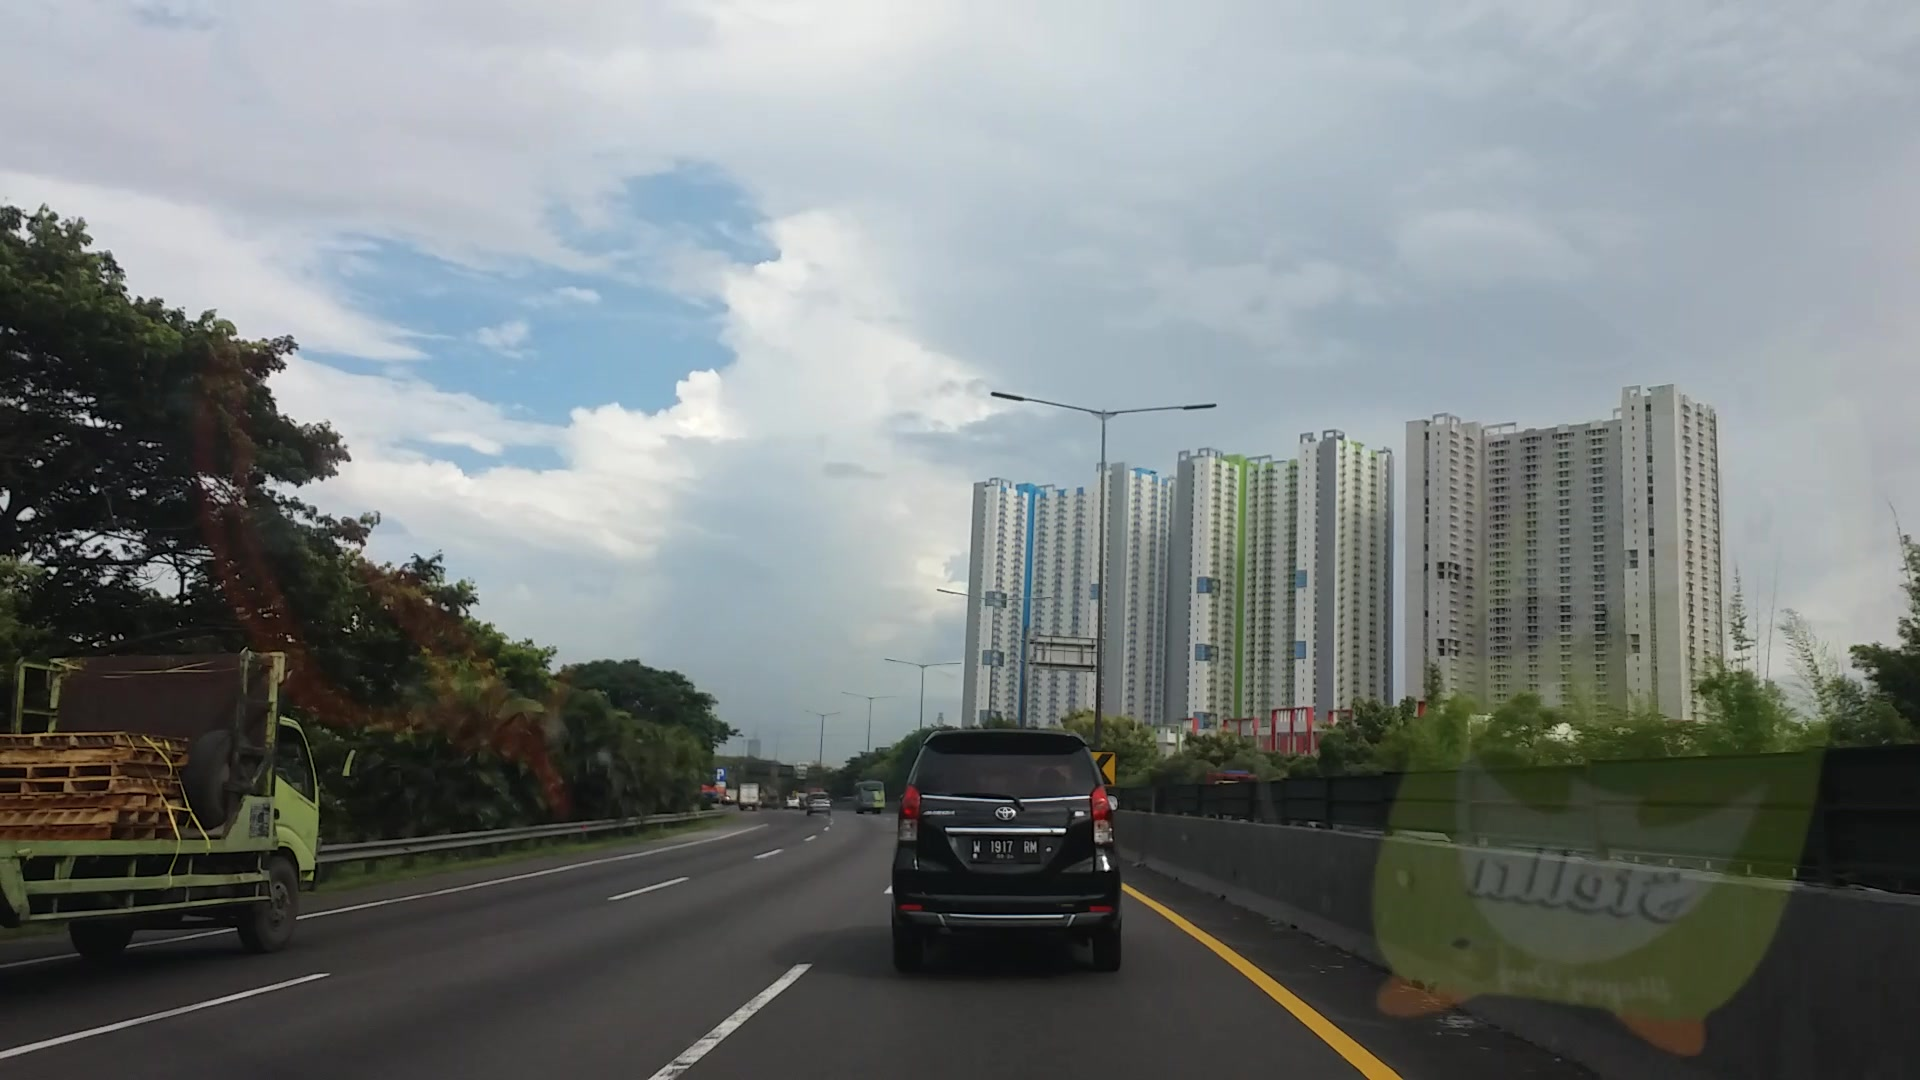plate_positive: (969, 837, 1039, 862)
